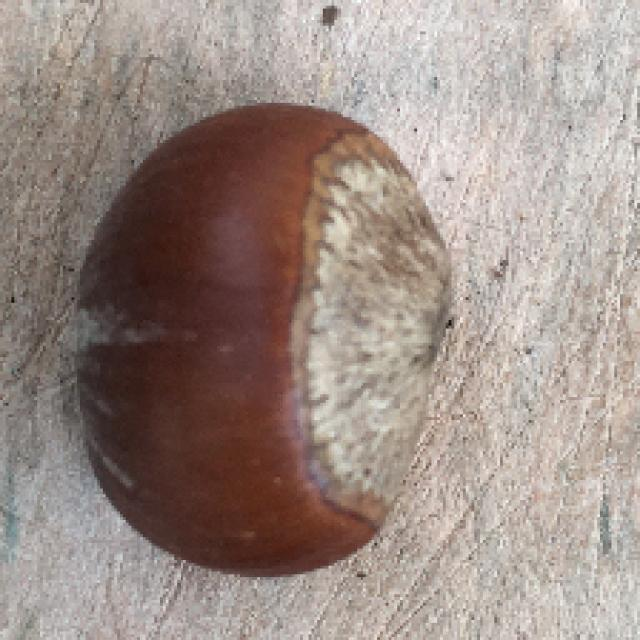damagedHazelnut: (64, 98, 458, 576)
